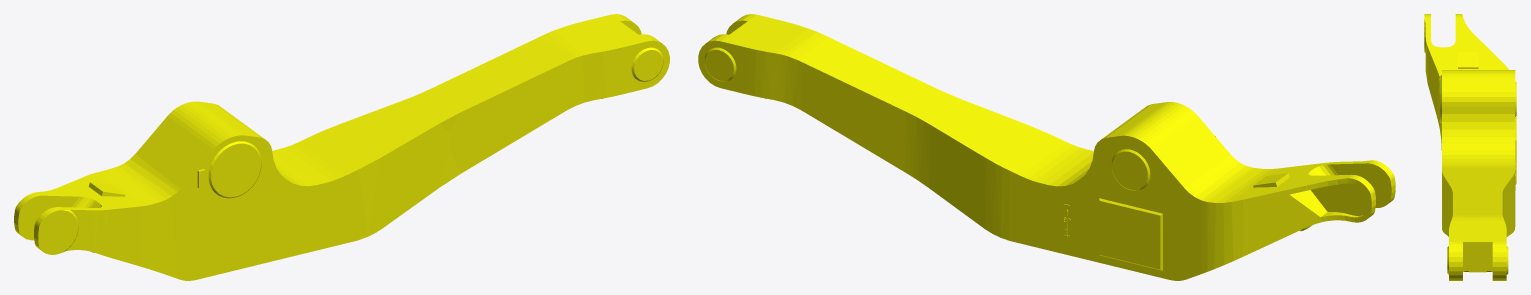
3 views of the same model, side by side, from view 1: azimuth 30°, elevation 25°; view 2: azimuth 150°, elevation 25°; view 3: azimuth 270°, elevation 25° (orthographic). The views are drawn at different scales.
Visible parts, largest first — view 1: node; view 2: node; view 3: node.
Boxes of the visible parts, x1=… form: node: x1=14, y1=14, x2=669, y2=280; node: x1=698, y1=14, x2=1395, y2=280; node: x1=1424, y1=14, x2=1516, y2=280.
Size of the model in its own units: 2018 by 410 by 315.
